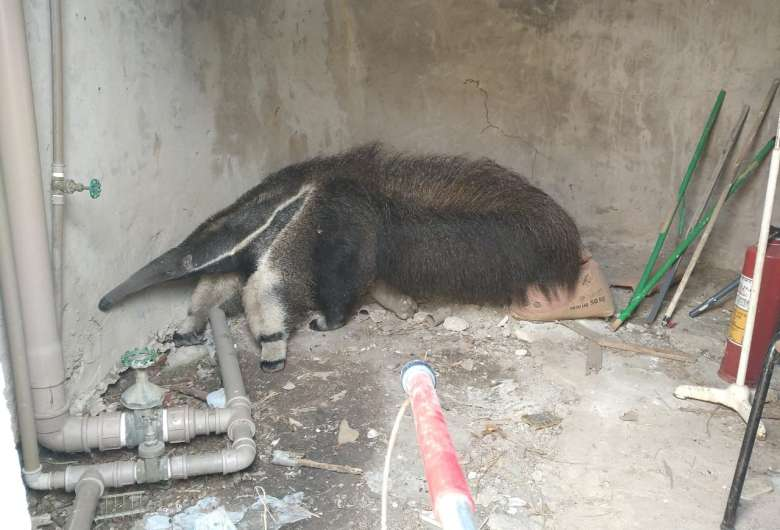TamanduaBandeira: (91, 134, 587, 375)
